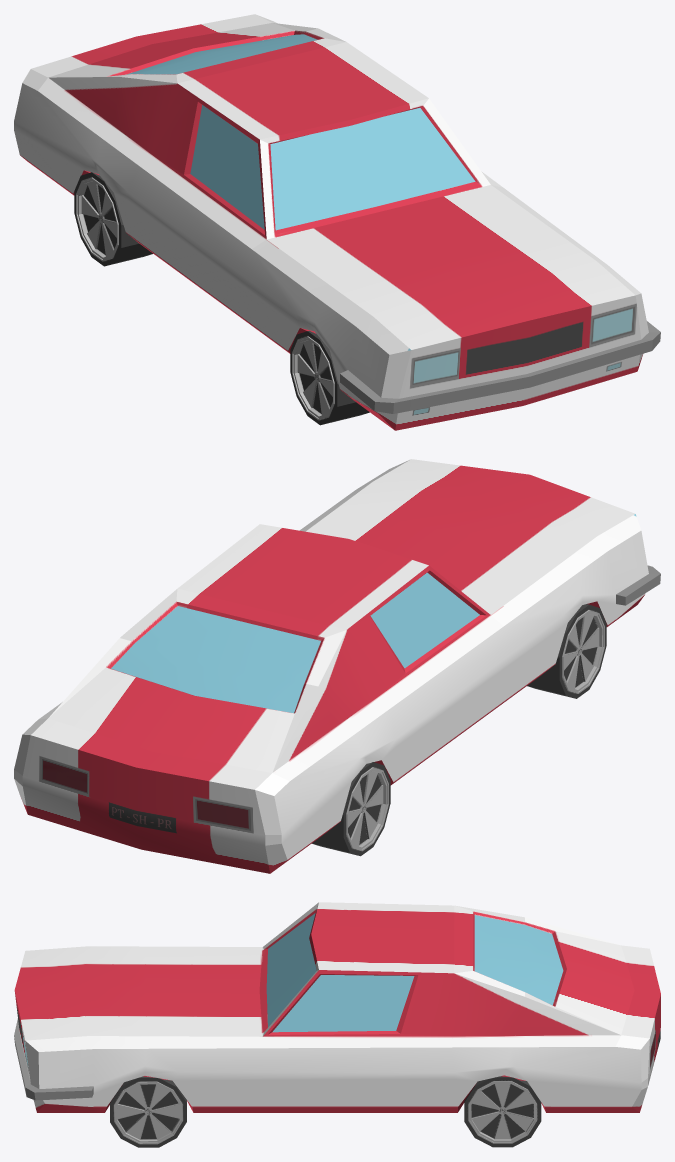
File: Car.fbx
The picture shows the model from 3 angles, top to bottom: view 1: azimuth 30°, elevation 25°; view 2: azimuth 150°, elevation 25°; view 3: azimuth 270°, elevation 25°; orthographic projection. The views are drawn at different scales.
Parts seen in each view (by area): view 1: Car, Wheel_front_right, Wheel_back_right; view 2: Car, Wheel_front_right, Wheel_back_right; view 3: Car, Wheel_back_left, Wheel_front_left.
Boxes of the visible parts, x1,y1,x2,y2 form: Car: [14, 14, 660, 430]; Wheel_front_right: [290, 331, 369, 425]; Wheel_back_right: [74, 172, 152, 266]; Car: [14, 459, 660, 873]; Wheel_front_right: [527, 604, 606, 698]; Wheel_back_right: [312, 762, 390, 856]; Car: [14, 902, 660, 1112]; Wheel_back_left: [464, 1076, 541, 1147]; Wheel_front_left: [110, 1076, 186, 1147].
Size of the model in its own units: 5.89 by 3.84 by 14.08.
2 materials, 2 textured.
